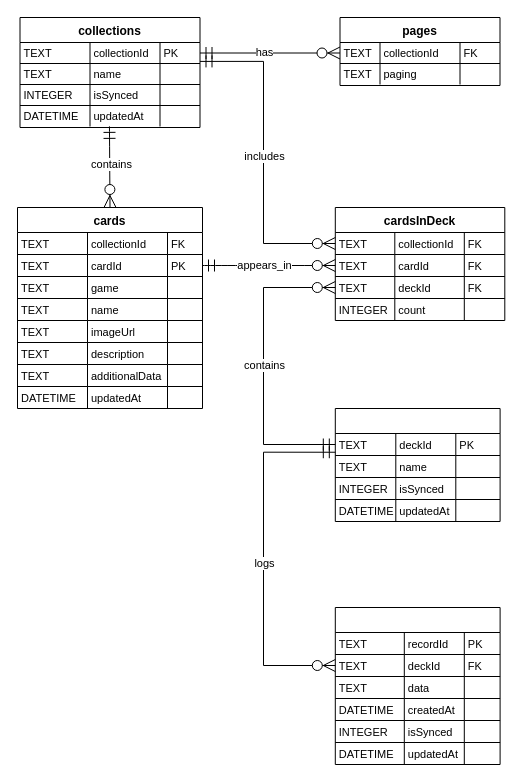
The diagram is 523 pixels wide and 782 high, and some of its shapes have lost their labels. Here are the shapes that lost their labels. From the top down, the box of each, then its label:
(334, 408, 500, 522): decks
(334, 606, 500, 764): records
